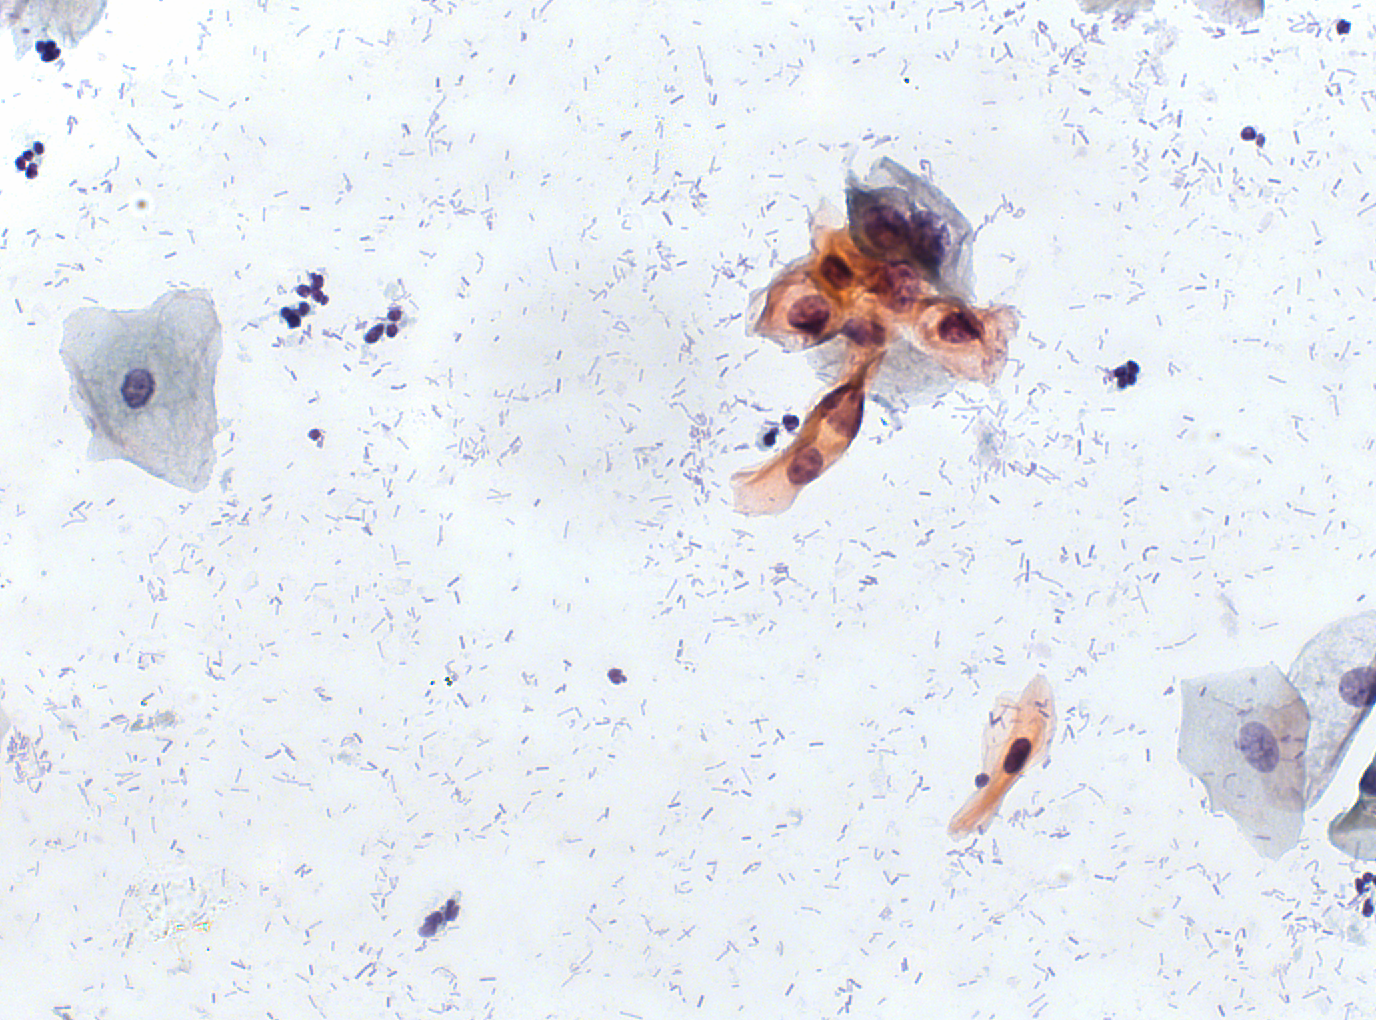Abn: (874, 260, 923, 318), (899, 210, 951, 264), (862, 204, 907, 254), (822, 387, 864, 437), (840, 315, 889, 352), (936, 309, 981, 348), (789, 292, 829, 335), (819, 252, 855, 296), (787, 445, 823, 486)
